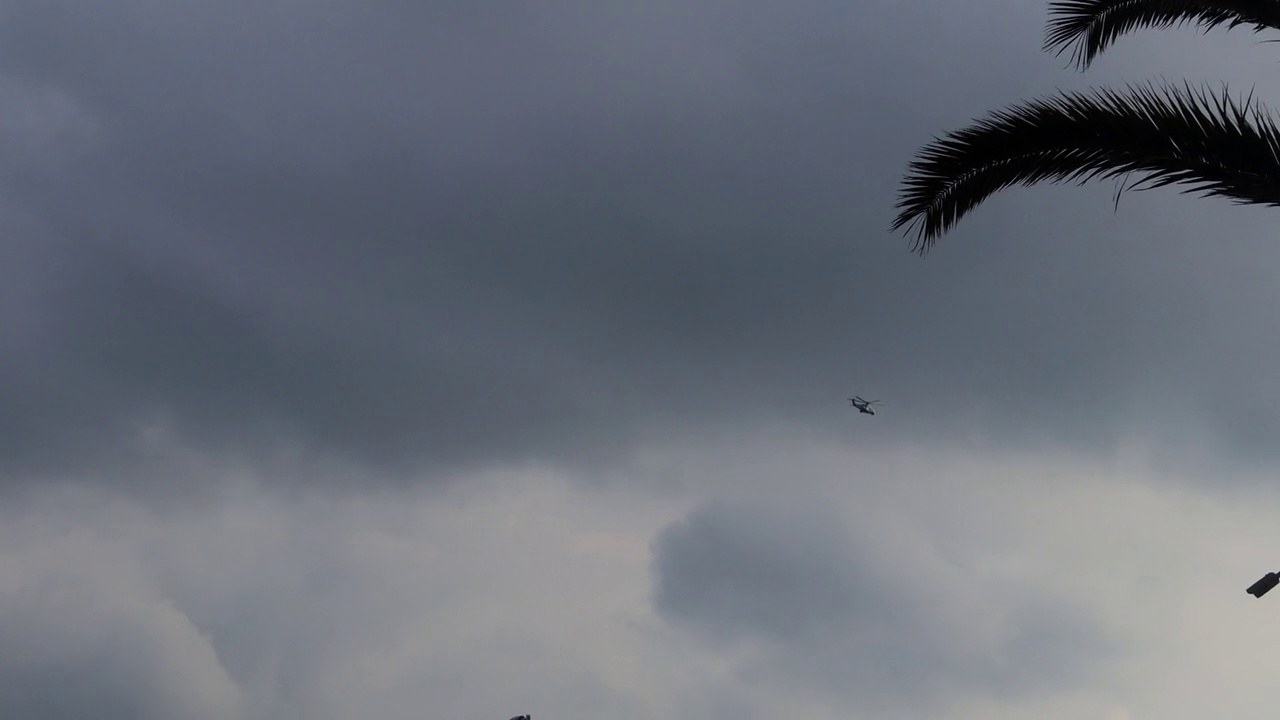heli: (849, 394, 885, 415)
